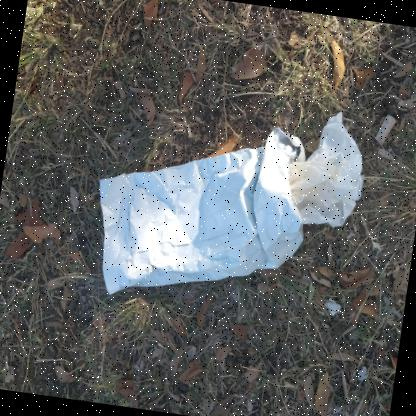Cigarette: (374, 114, 396, 144)
Other plastic: (99, 126, 305, 295)
Plastic film: (288, 111, 363, 226)
Unlabeled litter: (324, 298, 341, 316)
